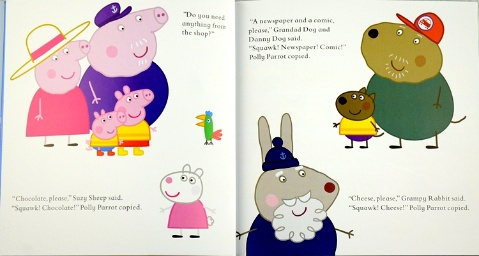Peppa: (110, 85, 154, 159)
